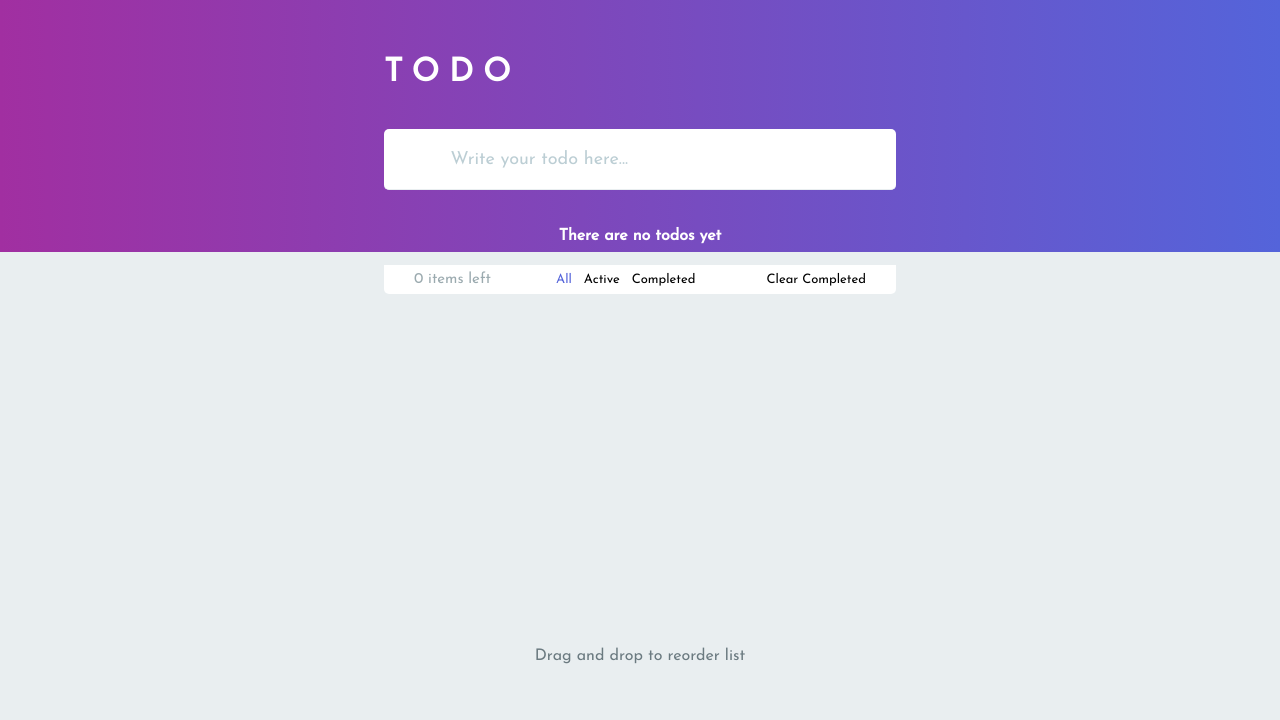
Test case: todo app page › should create new todo
This screenshot has width=1280, height=720.
Type "NewTodoContent" into the field with placeholder "Write your todo here..." at (666, 159), box x1=449 y1=144 x2=882 y2=174
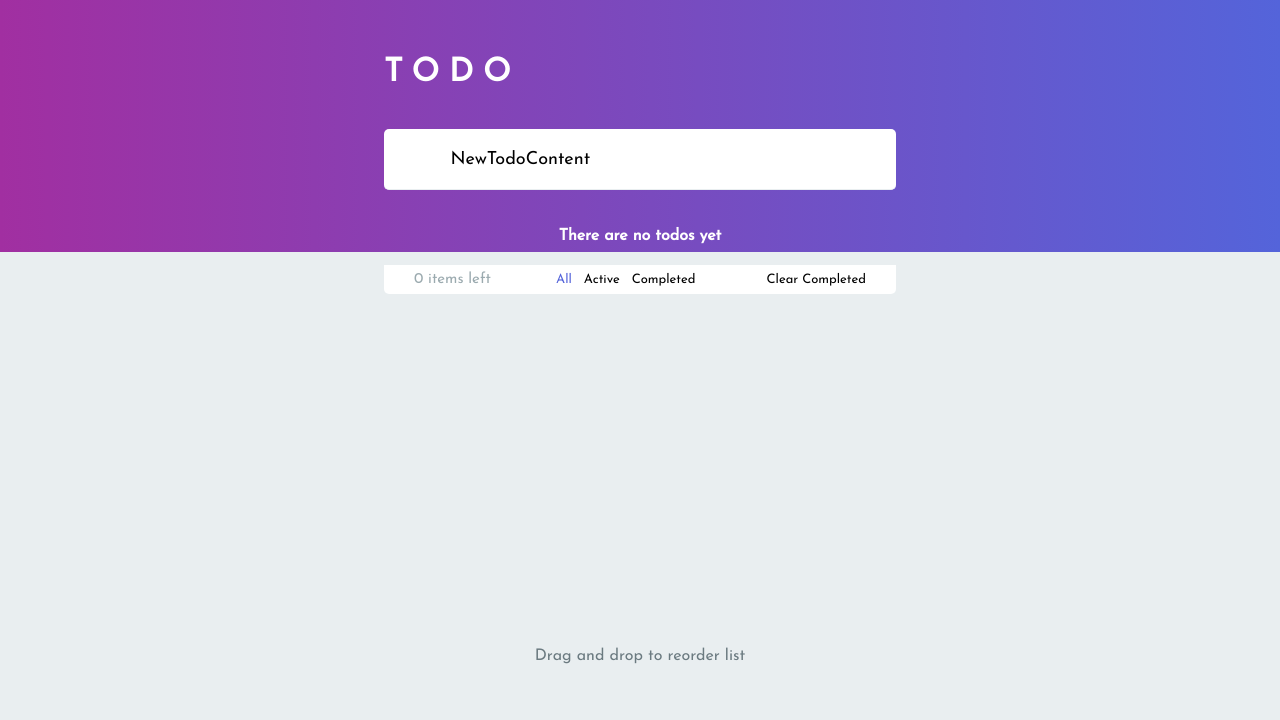
Press Enter in the field, box x1=449 y1=144 x2=882 y2=174
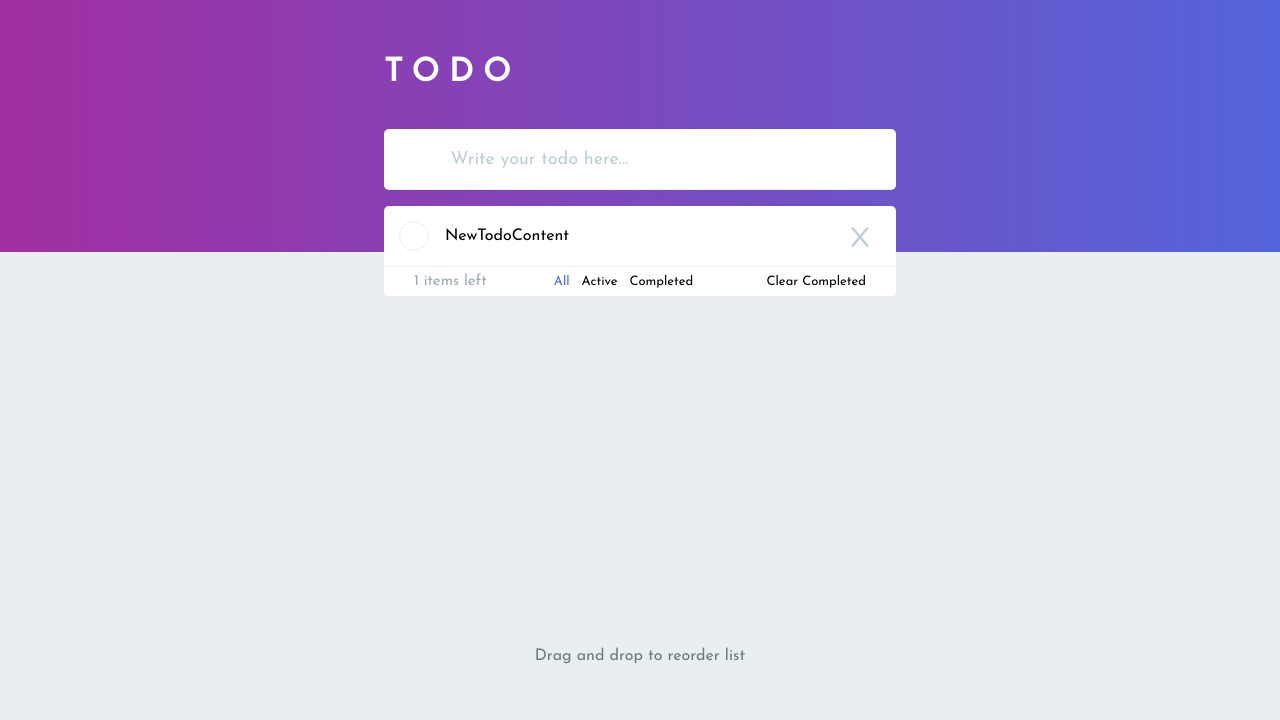
Expected: the text "NewTodoContent" is shown, x1=445 y1=228 x2=839 y2=244
